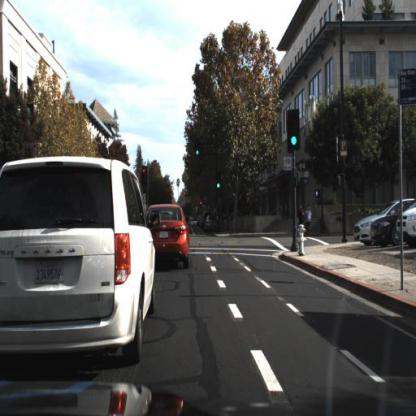car: (6, 149, 159, 373), (137, 199, 192, 274), (371, 209, 409, 252), (350, 209, 384, 249), (397, 204, 416, 249), (205, 216, 222, 237)
pedestrian: (305, 204, 314, 232), (298, 208, 306, 236)
trafficLight: (287, 107, 303, 157), (216, 174, 223, 195)
trafficLight-Green: (195, 140, 202, 163)
trafficLight-RedLeft: (141, 168, 149, 191)
